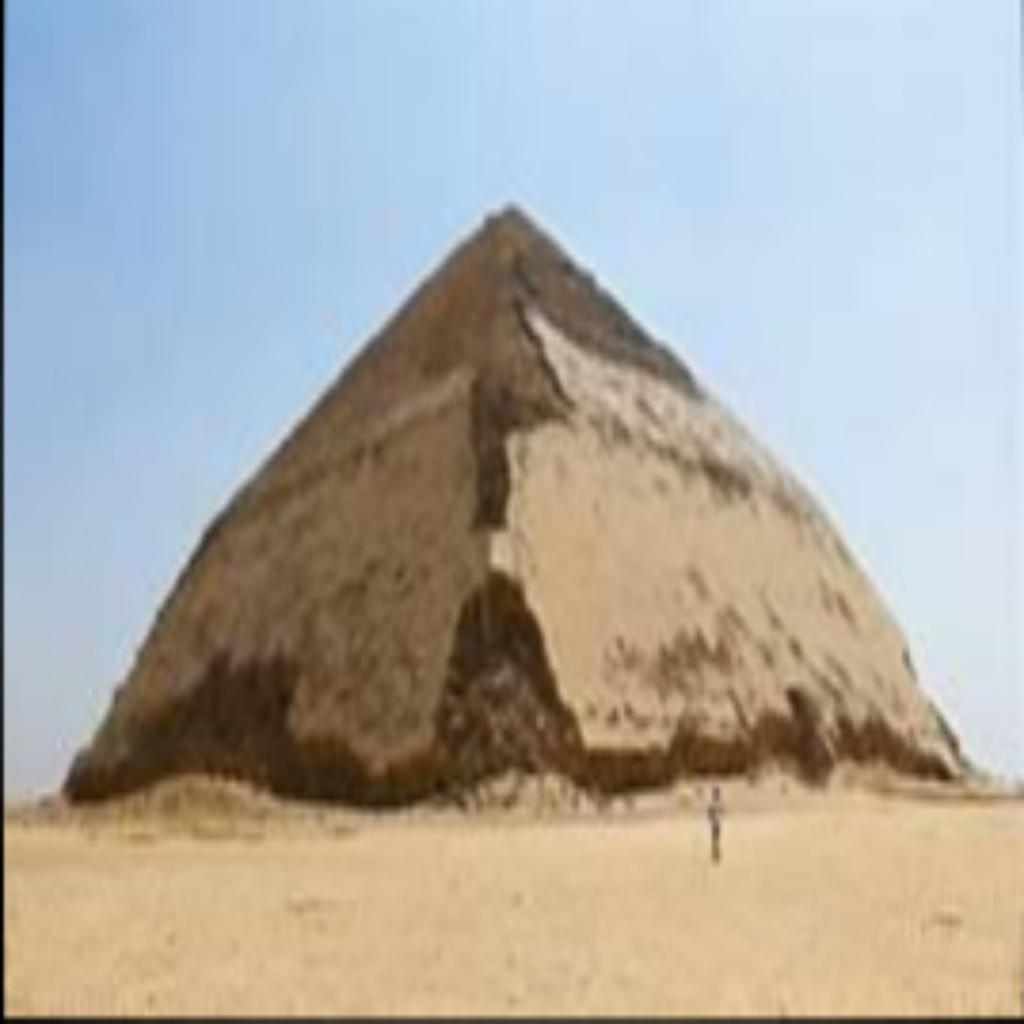Bent Pyramid of King Sneferu: (60, 197, 974, 807)
